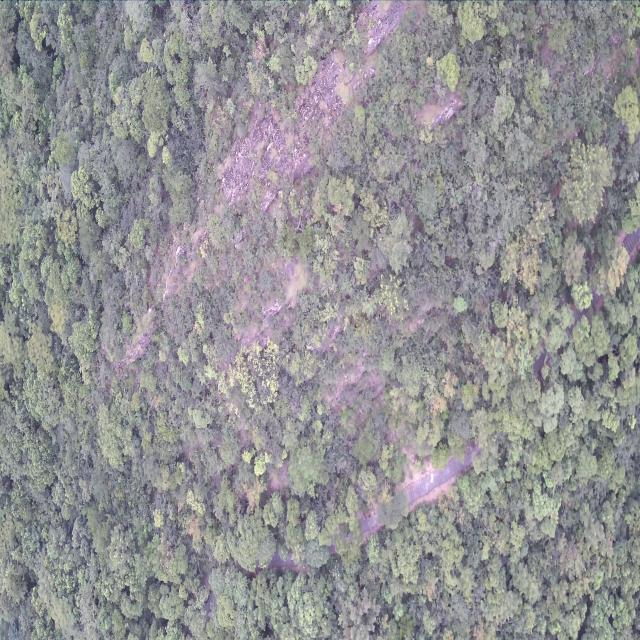UAV: (427, 472, 437, 485)
